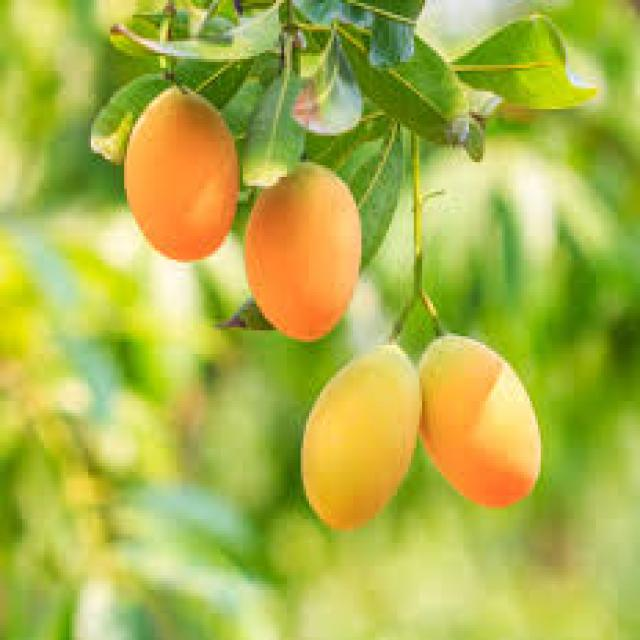mango: (418, 335, 546, 510), (248, 164, 364, 344), (306, 349, 422, 526), (128, 86, 238, 259)
